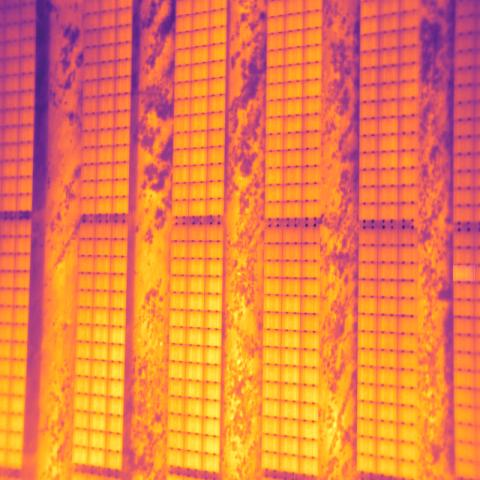fault: (453, 265, 476, 281)
